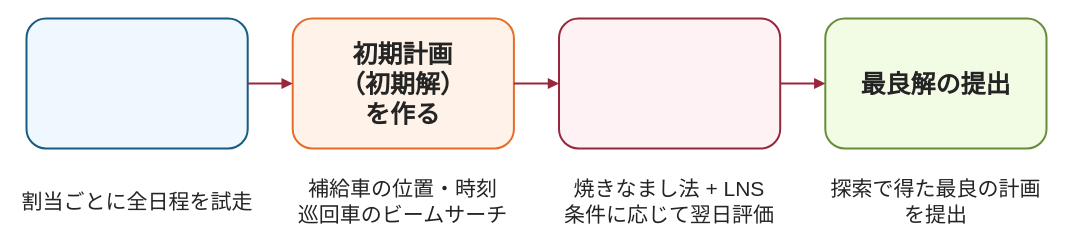
Some shapes in this 1065 by 250 pixel diagram are drawn without their labels. The shapes that lost their labels are listed below. From the top down, each one's centre as x and y in pixels, then its label:
At pixel 136 83: "車種の割当".
At pixel 669 83: "計画の改善".
